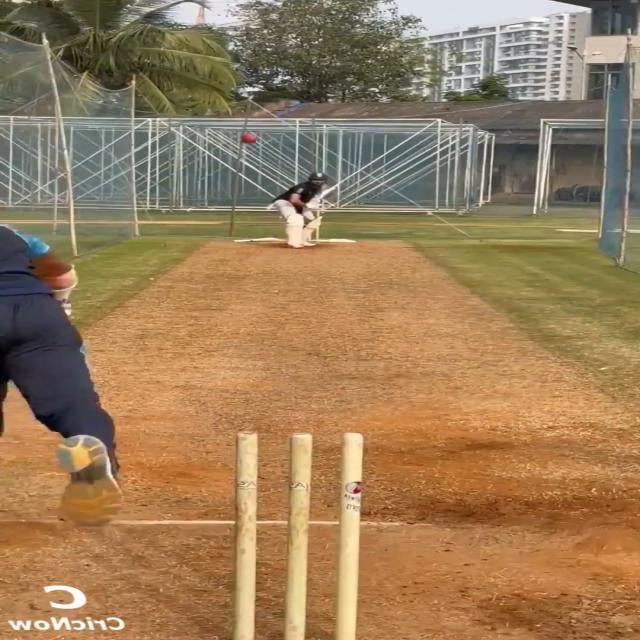ball: (239, 133, 258, 144)
stump: (225, 430, 372, 640)
